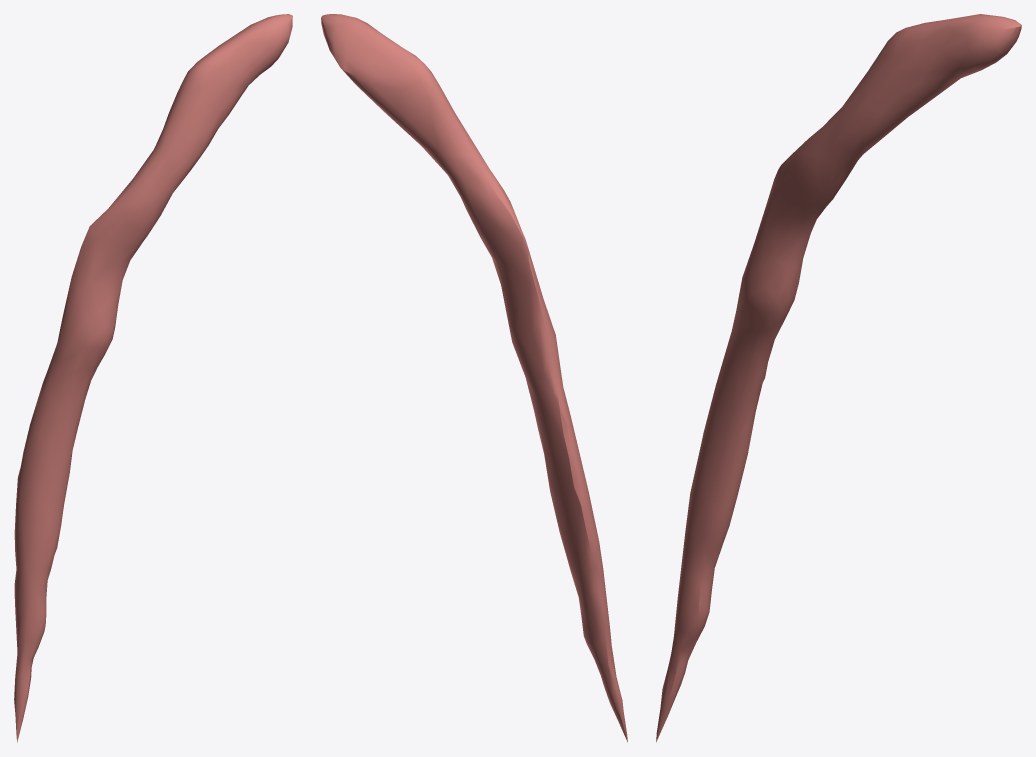
The model's file is fma38631-o_mm2247.glb.
3 views of the same model, side by side, from view 1: azimuth 30°, elevation 25°; view 2: azimuth 150°, elevation 25°; view 3: azimuth 330°, elevation 25° (orthographic). The views are drawn at different scales.
Visible parts, largest first — view 1: FMA38631-O_MM2247; view 2: FMA38631-O_MM2247; view 3: FMA38631-O_MM2247.
Part boxes in pixels (box(x1,y1,x2,y2)): FMA38631-O_MM2247: box(14, 14, 292, 742); FMA38631-O_MM2247: box(321, 14, 627, 742); FMA38631-O_MM2247: box(656, 14, 1021, 742).
Bounding box in the file's own units: 0.0233 × 0.0505 × 0.00468.
